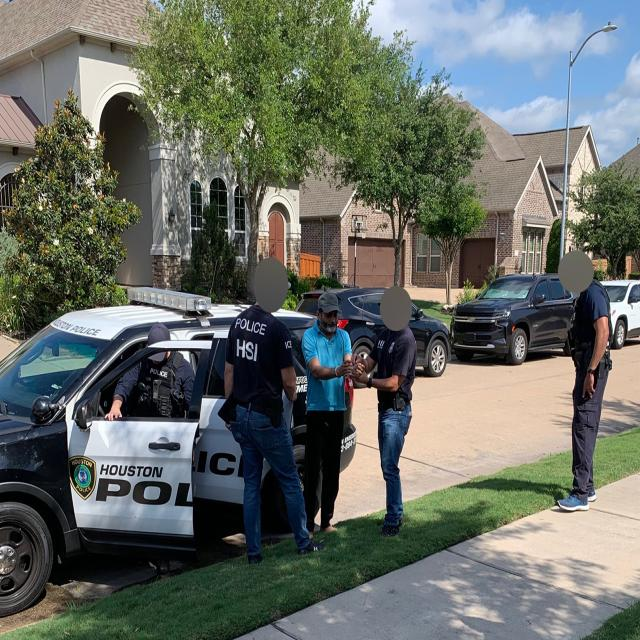police: (214, 279, 314, 560), (351, 312, 422, 534), (106, 312, 202, 449), (557, 281, 613, 510)
